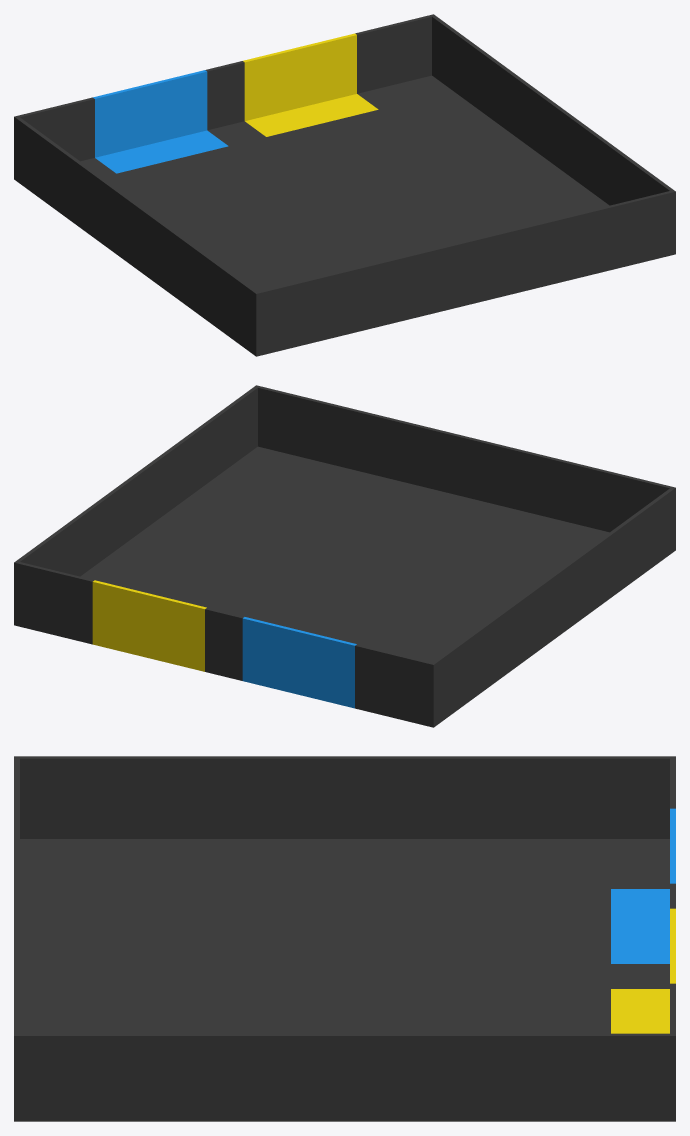
File: Eco_Disaster_Arena.dae
The picture shows the model from 3 angles, top to bottom: view 1: azimuth 30°, elevation 25°; view 2: azimuth 150°, elevation 25°; view 3: azimuth 270°, elevation 25°; orthographic projection. The views are drawn at different scales.
Parts seen in each view (by area): view 1: node3, node1, node2, node4; view 2: node3, node1, node2, node4, node0; view 3: node3, node1, node4, node0, node2.
Part boxes in pixels (<box>): node3: <box>14,14,675,356</box>; node1: <box>113,113,552,291</box>; node2: <box>243,33,378,136</box>; node4: <box>93,70,228,173</box>; node3: <box>14,385,675,727</box>; node1: <box>137,484,576,662</box>; node2: <box>92,580,206,671</box>; node4: <box>242,617,356,708</box>; node0: <box>378,507,462,549</box>; node3: <box>14,756,675,1121</box>; node1: <box>108,876,581,1033</box>; node4: <box>611,808,675,963</box>; node0: <box>79,962,197,990</box>; node2: <box>611,908,675,1033</box>.
Bounding box in the file's own units: 2.24 × 2.24 × 0.32.
